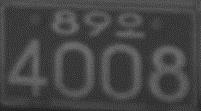0: (52, 39, 95, 100), (99, 42, 143, 101)
4: (6, 38, 48, 98)
8: (147, 43, 190, 103), (51, 8, 79, 37)
9: (83, 7, 110, 38)
오: (115, 11, 144, 38)
